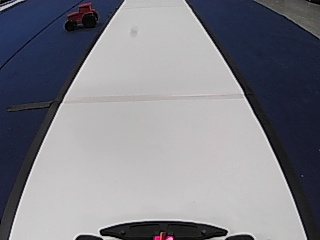tractor: (63, 2, 100, 31)
